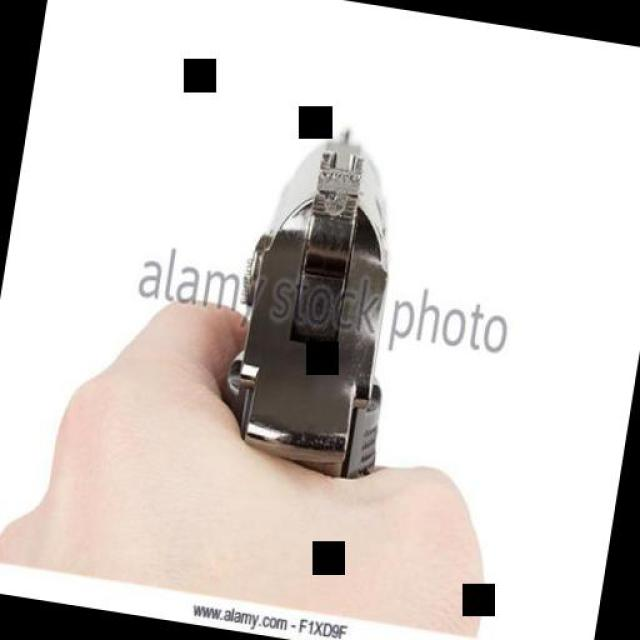gun: (204, 100, 441, 486)
